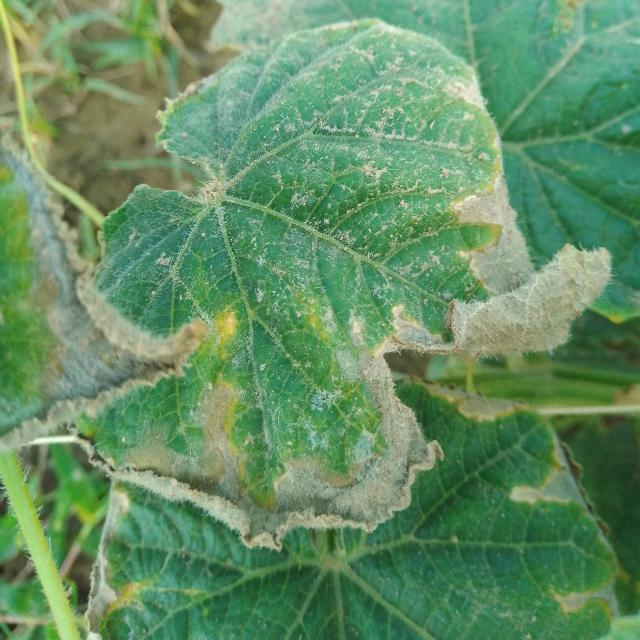cucumber_gummy: (61, 16, 614, 556), (67, 369, 640, 640), (0, 135, 218, 452)
